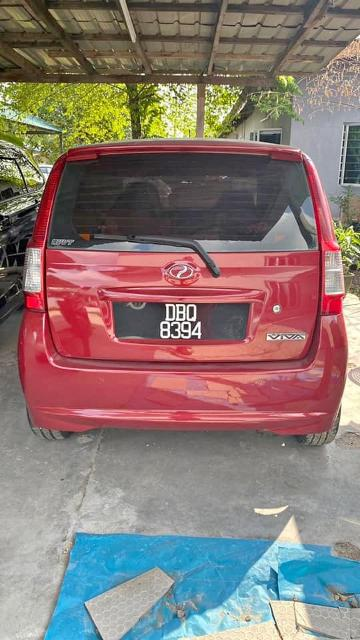License_Plate: (135, 300, 222, 346)
car: (23, 133, 351, 451)
